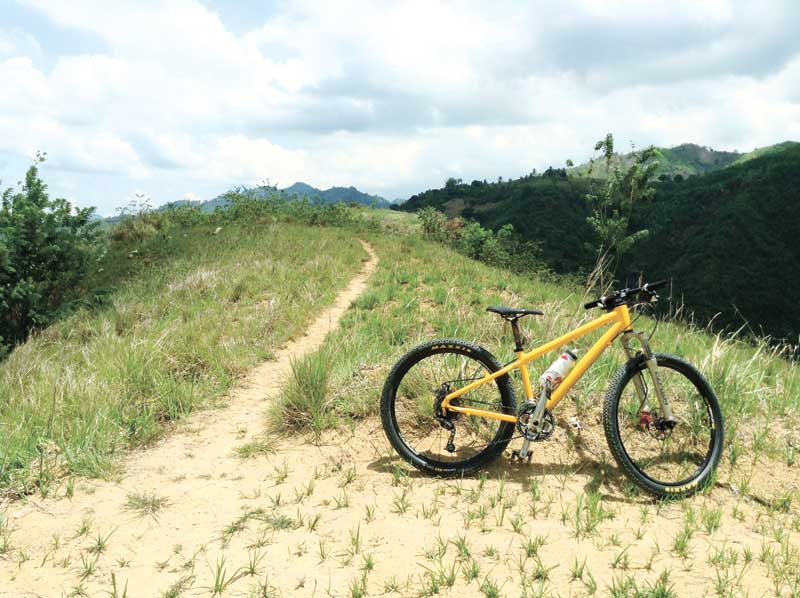bike: (382, 280, 725, 494)
tree: (3, 156, 77, 329)
